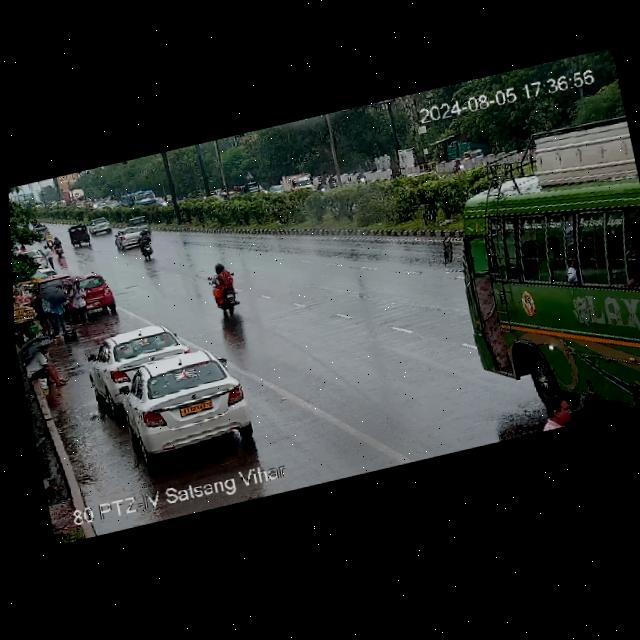bus: (432, 110, 640, 387)
car: (115, 341, 256, 464), (84, 317, 193, 402), (56, 266, 119, 325), (115, 225, 154, 252), (67, 221, 94, 252), (84, 214, 113, 237), (126, 214, 152, 239)
motorcycle: (202, 258, 245, 316), (133, 229, 158, 261), (450, 153, 466, 175), (355, 169, 370, 187), (53, 235, 65, 257), (43, 230, 55, 249), (328, 174, 339, 190)
person: (24, 267, 80, 344), (19, 338, 72, 396), (67, 277, 93, 330), (42, 244, 57, 270)
truck: (120, 186, 158, 210), (281, 168, 315, 194), (232, 174, 264, 197), (62, 184, 89, 211)
